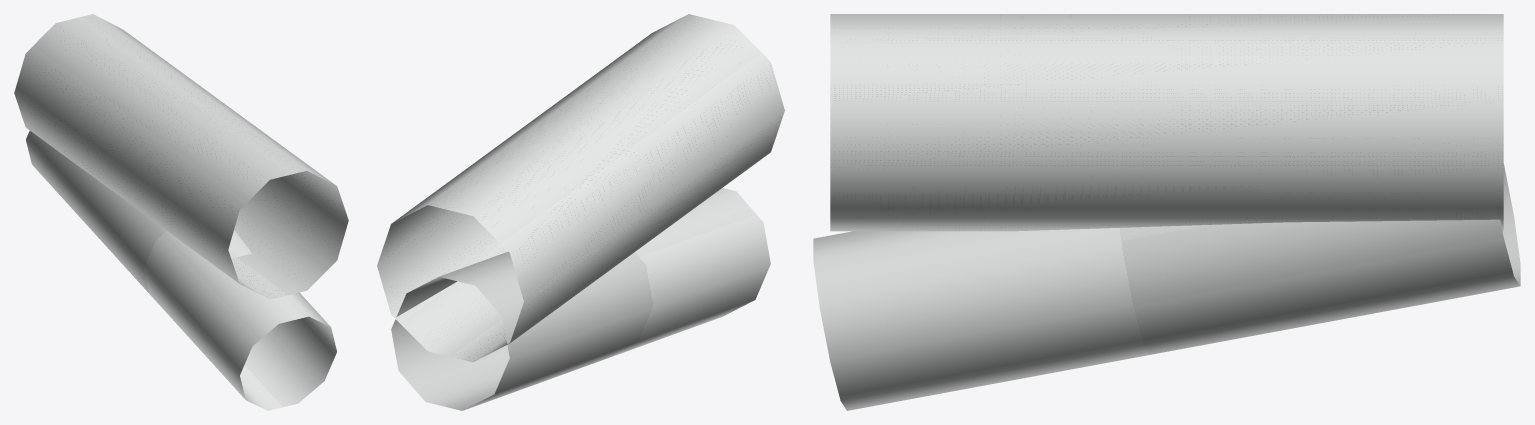
Rendered from trusssignalarm_level6_c8.obj.
3 views of the same model, side by side, from view 1: azimuth 30°, elevation 25°; view 2: azimuth 150°, elevation 25°; view 3: azimuth 270°, elevation 25° (orthographic). The views are drawn at different scales.
Visible parts, largest first — view 1: trusssignalarm_level6_c8; view 2: trusssignalarm_level6_c8; view 3: trusssignalarm_level6_c8.
Part boxes in pixels (box(x1,y1,x2,y2)): trusssignalarm_level6_c8: box(14, 14, 348, 410); trusssignalarm_level6_c8: box(377, 14, 784, 410); trusssignalarm_level6_c8: box(813, 14, 1520, 410).
Bounding box in the file's own units: 0.325 × 0.6081 × 1.05.
